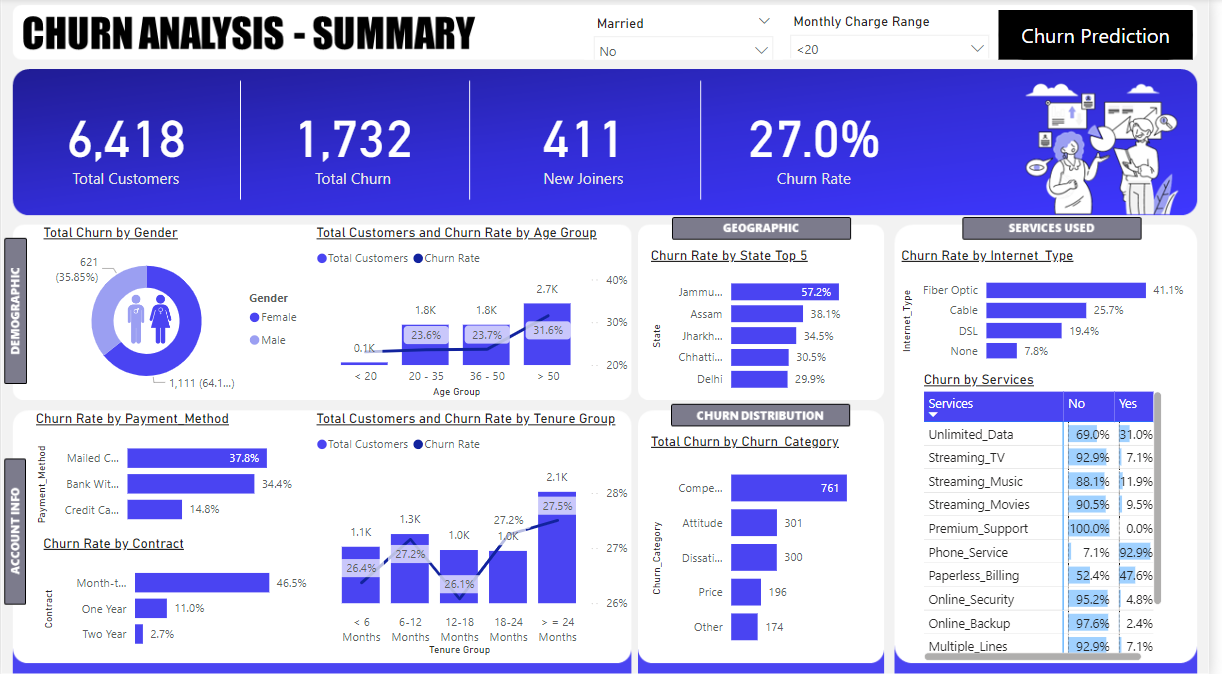

Layout of this report page (visuals, bound fields, positions):
{"tool":"powerbi","page":{"name":"Summary","canvas":[1280,720],"ordinal":0},"visuals":[{"type":"image","box":[111.3,300.6,92.3,77.9],"z":0},{"type":"card","fields":{"Values":["tbl_Measures.Total Customers"]},"box":[12.7,76.3,238.6,152.7],"z":1000},{"type":"card","fields":{"Values":["tbl_Measures.Churn Rate"]},"box":[739.6,76.3,244,152.7],"z":2000},{"type":"card","fields":{"Values":["tbl_Measures.New Joiners"]},"box":[494.7,76.3,245,152.7],"z":3000},{"type":"card","fields":{"Values":["tbl_Measures.Total Churn"]},"box":[251.3,76.3,243.4,152.7],"z":4000},{"type":"donutChart","fields":{"Y":["tbl_Measures.Total Churn"],"Category":["prod_Churn.Gender"]},"box":[39.8,240.2,289.5,187.7],"z":5000},{"type":"clusteredBarChart","fields":{"Category":["prod_Churn.Payment_Method"],"Y":["tbl_Measures.Churn Rate"]},"box":[31.8,437.4,289,132],"z":6000},{"type":"clusteredBarChart","fields":{"Y":["tbl_Measures.Churn Rate"],"Category":["prod_Churn.Contract"]},"box":[39.8,569.4,289.5,132],"z":7000},{"type":"lineStackedColumnComboChart","fields":{"Category":["mapping_TenureGrp.Tenure Group"],"Y":["tbl_Measures.Total Customers"],"Y2":["tbl_Measures.Churn Rate"]},"box":[329.3,437.4,340.4,264],"z":8000},{"type":"lineStackedColumnComboChart","fields":{"Category":["mapping_AgeGrp.AgeGroup"],"Y":["tbl_Measures.Total Customers"],"Y2":["tbl_Measures.Churn Rate"]},"box":[329.3,240.2,340.4,187.7],"z":9000},{"type":"clusteredBarChart","title":"Churn Rate by State Top 5","fields":{"Category":["prod_Churn.State"],"Y":["tbl_Measures.Churn Rate"]},"box":[684,264,241.8,163.8],"z":10000},{"type":"clusteredBarChart","fields":{"Category":["prod_Churn.Churn_Category"],"Y":["tbl_Measures.Total Churn"]},"box":[684,461.3,241.8,240.2],"z":11000},{"type":"clusteredBarChart","fields":{"Category":["prod_Churn.Internet_Type"],"Y":["tbl_Measures.Churn Rate"]},"box":[949.6,264,314.9,132],"z":12000},{"type":"pivotTable","title":"Churn by Services","fields":{"Rows":["prod_Services.Services"],"Columns":["prod_Services.Status"],"Values":["Sum(prod_Services.Churn Status)"]},"box":[973.5,396.1,262.5,311.8],"z":13000},{"type":"slicer","fields":{"Values":["prod_Services.Monthly Charge Status"]},"box":[827.7,11.3,230.6,52.9],"z":14000},{"type":"slicer","fields":{"Values":["prod_Services.Married"]},"box":[618,13.2,209.8,52.9],"z":15000},{"type":"shape","box":[1058.3,13.2,206,52.9],"z":16000}]}

Visuals, with their boxes in screenshot pixels (x1, y1, x2, y2), scaled from the page's 1280x720 canvas onto the 1222x674 screenshot:
image: box(106, 281, 194, 354)
card - tbl_Measures.Total Customers: box(12, 71, 240, 214)
card - tbl_Measures.Churn Rate: box(706, 71, 939, 214)
card - tbl_Measures.New Joiners: box(472, 71, 706, 214)
card - tbl_Measures.Total Churn: box(240, 71, 472, 214)
donutChart - tbl_Measures.Total Churn x prod_Churn.Gender: box(38, 225, 314, 401)
clusteredBarChart - prod_Churn.Payment_Method x tbl_Measures.Churn Rate: box(30, 409, 306, 533)
clusteredBarChart - tbl_Measures.Churn Rate x prod_Churn.Contract: box(38, 533, 314, 657)
lineStackedColumnComboChart - mapping_TenureGrp.Tenure Group x tbl_Measures.Total Customers: box(314, 409, 639, 657)
lineStackedColumnComboChart - mapping_AgeGrp.AgeGroup x tbl_Measures.Total Customers: box(314, 225, 639, 401)
"Churn Rate by State Top 5" clusteredBarChart: box(653, 247, 884, 400)
clusteredBarChart - prod_Churn.Churn_Category x tbl_Measures.Total Churn: box(653, 432, 884, 657)
clusteredBarChart - prod_Churn.Internet_Type x tbl_Measures.Churn Rate: box(907, 247, 1207, 371)
"Churn by Services" pivotTable: box(929, 371, 1180, 663)
slicer - prod_Services.Monthly Charge Status: box(790, 11, 1010, 60)
slicer - prod_Services.Married: box(590, 12, 790, 62)
shape: box(1010, 12, 1207, 62)
